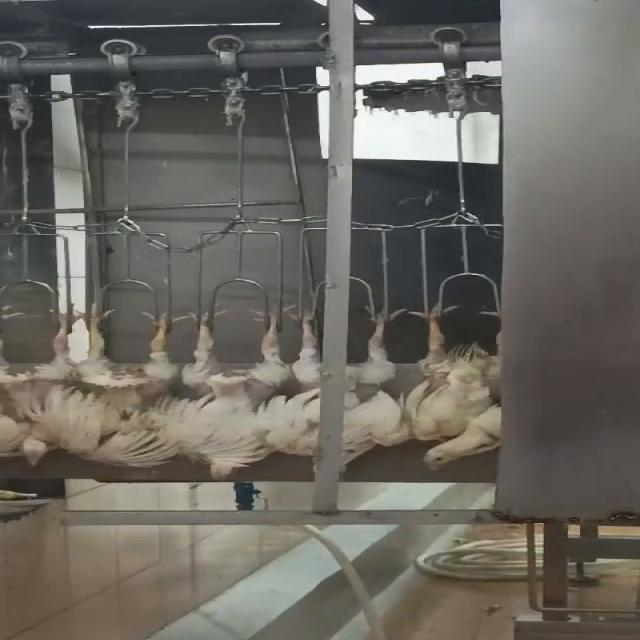chicken: (185, 302, 323, 482), (62, 304, 195, 473), (411, 292, 506, 473), (0, 302, 80, 469), (342, 297, 414, 464)
